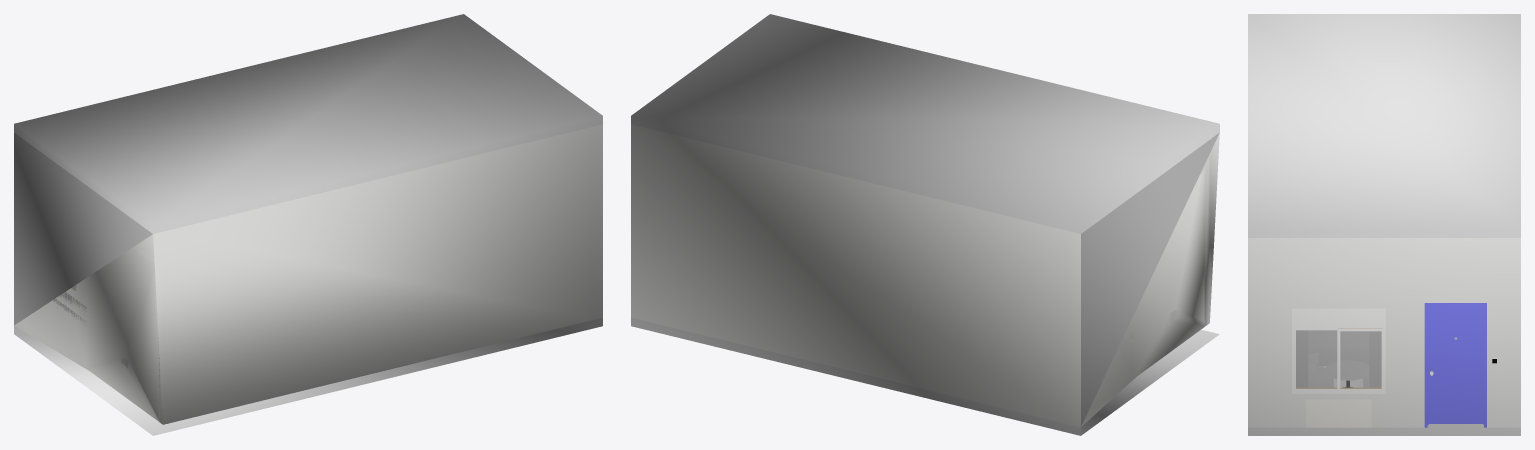
File: smartroomapp.gltf
The picture shows the model from 3 angles, left to right: view 1: azimuth 30°, elevation 25°; view 2: azimuth 150°, elevation 25°; view 3: azimuth 270°, elevation 25°; orthographic projection.
Visible parts, largest first — view 1: Ext-6 3/4" wall (×2), Generic - 6" Landing (×2), Ext-6 3/4" wall with finish; view 2: Ext-6 3/4" wall (×2), Generic - 6" Landing (×2), Ext-6 3/4" wall with finish; view 3: Generic - 6" Landing (×2), Ext-6 3/4" wall (×2), 3'-0" x 6'-8", WIN 1, Please Load Type Catalog, KING BED, object 24, object 26.
Part boxes in pixels (left/top/right/bottom): Ext-6 3/4" wall (×2): left=157, top=124, right=602, bottom=424; Generic - 6" Landing (×2): left=14, top=14, right=602, bottom=435; Ext-6 3/4" wall with finish: left=14, top=132, right=162, bottom=424; Ext-6 3/4" wall (×2): left=631, top=124, right=1209, bottom=424; Generic - 6" Landing (×2): left=631, top=14, right=1219, bottom=435; Ext-6 3/4" wall with finish: left=1071, top=132, right=1219, bottom=427; Generic - 6" Landing (×2): left=1248, top=14, right=1520, bottom=435; Ext-6 3/4" wall (×2): left=1248, top=238, right=1520, bottom=427; 3'-0" x 6'-8": left=1424, top=303, right=1486, bottom=427; WIN 1: left=1292, top=308, right=1385, bottom=393; Please Load Type Catalog: left=1306, top=399, right=1371, bottom=427; KING BED: left=1308, top=330, right=1369, bottom=365; object 24: left=1324, top=360, right=1369, bottom=387; object 26: left=1308, top=353, right=1333, bottom=387.
Size of what is drawn, in the model's own units: 27.93 by 12.17 by 14.56.
